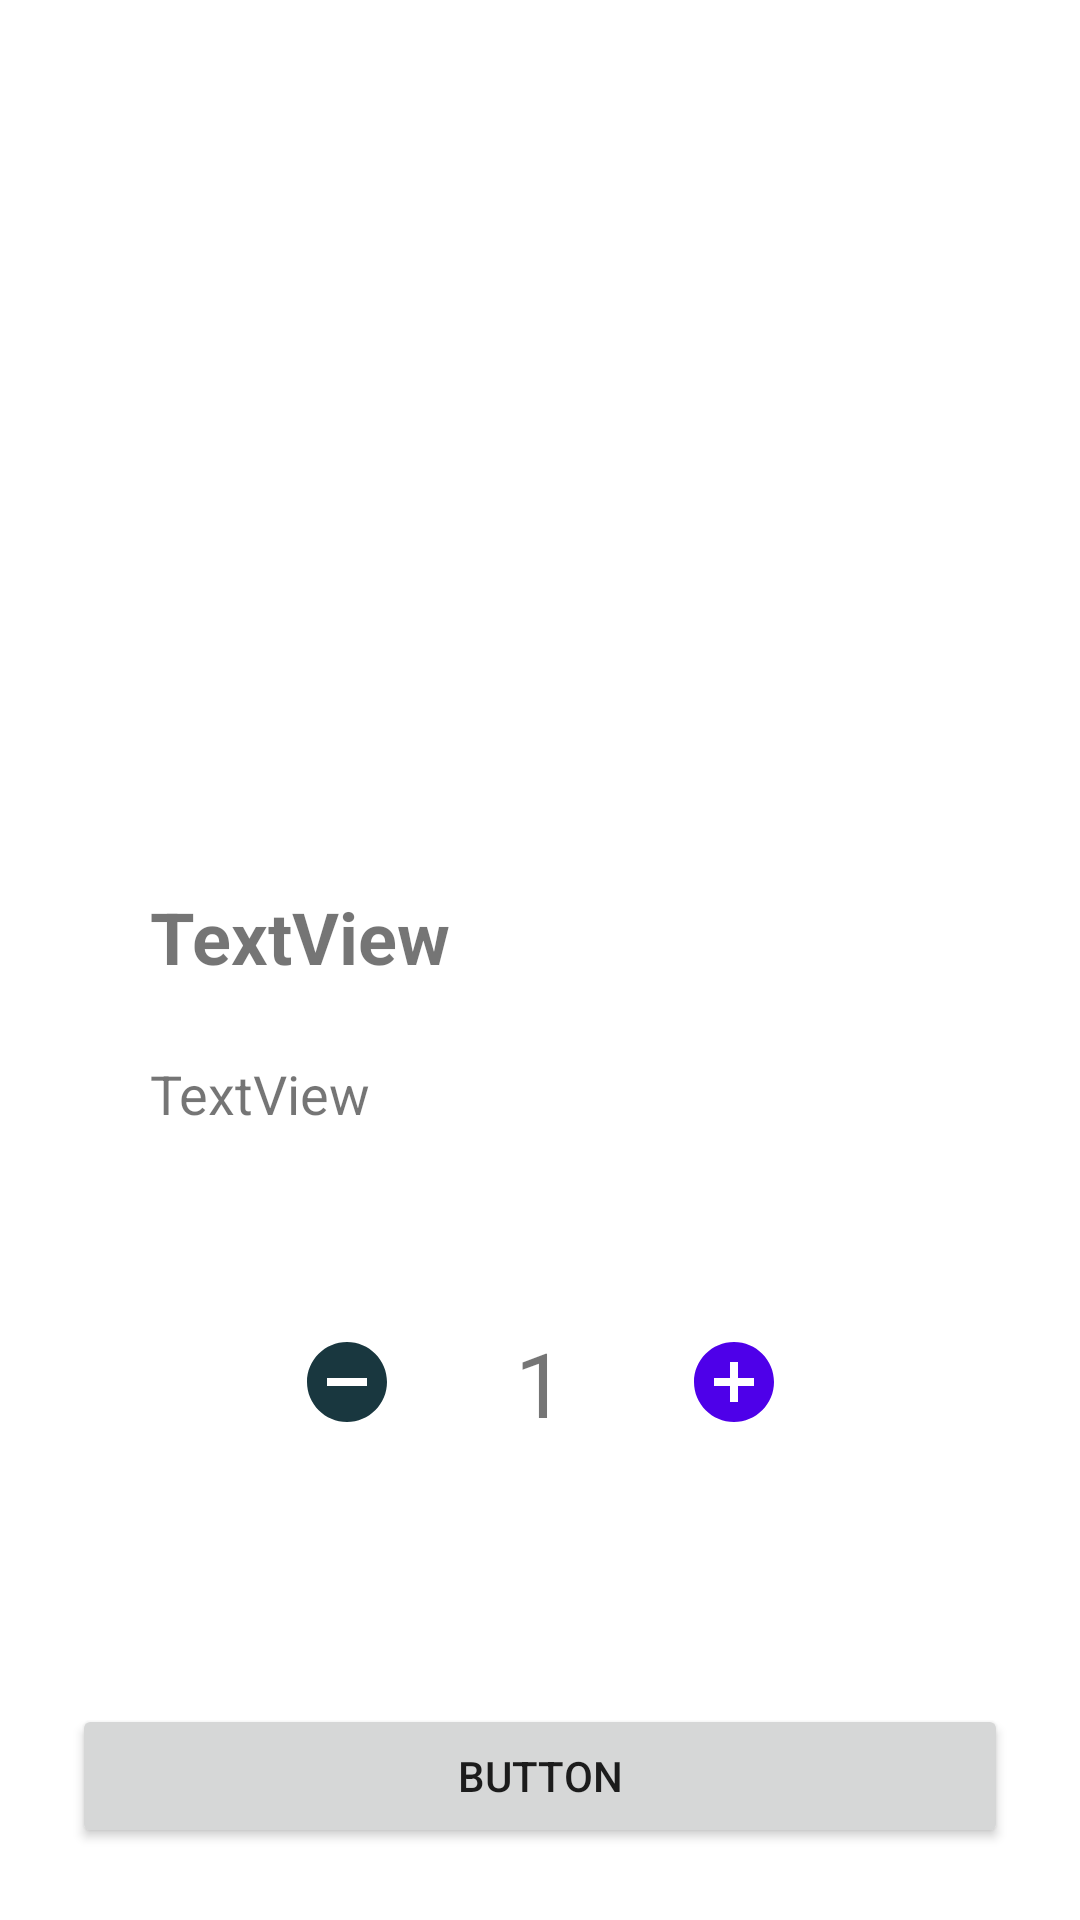

Named icons in this screenshot (1080px x 1920px) and their centers, (x=x, y=y):
add circle: (x=734, y=1382)
remove circle: (x=347, y=1382)
